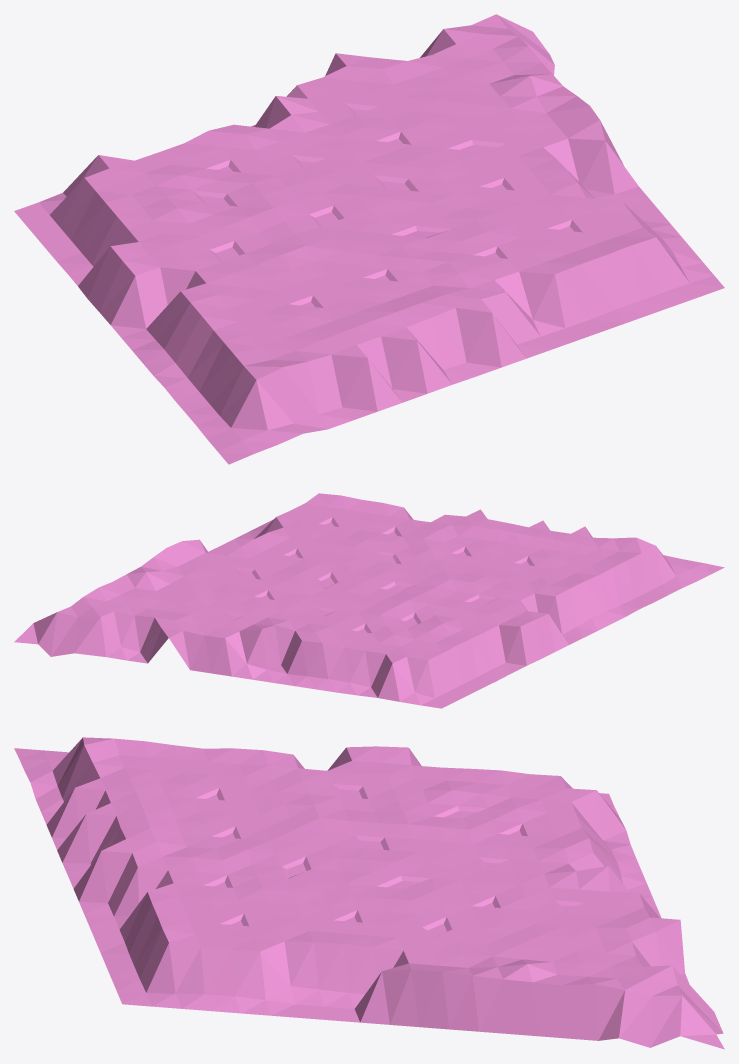
Rendered from waterland_3.fbx.
The picture shows the model from 3 angles, top to bottom: view 1: azimuth 30°, elevation 25°; view 2: azimuth 150°, elevation 25°; view 3: azimuth 270°, elevation 25°; orthographic projection. The views are drawn at different scales.
Visible parts, largest first — view 1: PM3D_waterland_2obj; view 2: PM3D_waterland_2obj; view 3: PM3D_waterland_2obj.
Boxes of the visible parts, x1,y1,x2,y2 form: PM3D_waterland_2obj: [14, 14, 724, 464]; PM3D_waterland_2obj: [14, 493, 724, 708]; PM3D_waterland_2obj: [14, 737, 724, 1049].
Bounding box in the file's own units: 31.13 × 2.54 × 30.6.
